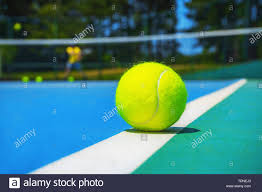tennis_ball: (114, 60, 189, 133)
